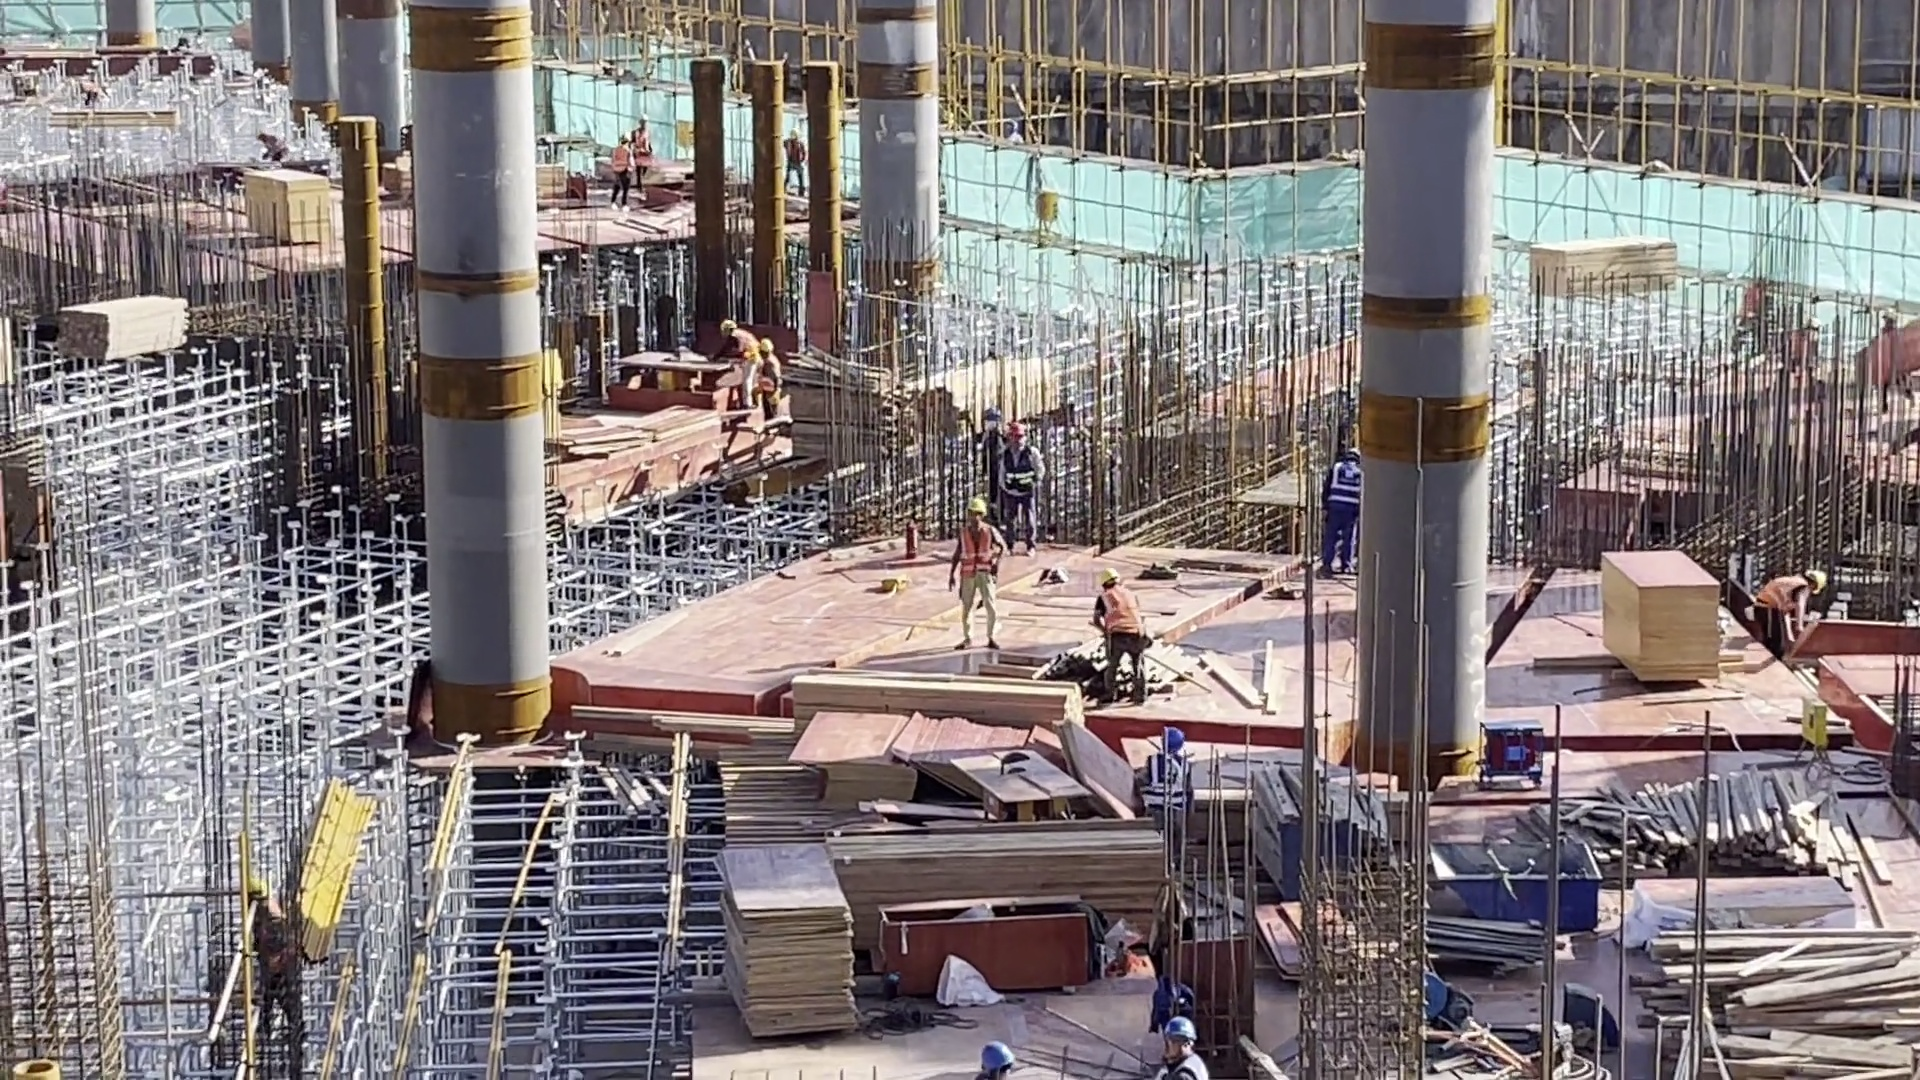helmet: (1157, 727, 1200, 767), (1161, 1006, 1196, 1044), (977, 1037, 1016, 1064), (1797, 563, 1829, 594), (714, 312, 736, 341), (756, 336, 780, 359), (964, 496, 984, 521), (1096, 567, 1116, 592), (1344, 446, 1366, 467), (1007, 422, 1026, 443), (784, 126, 801, 142), (981, 409, 996, 426), (635, 111, 650, 125), (617, 135, 630, 148)
person: (1090, 574, 1153, 705), (956, 496, 1003, 652), (1134, 725, 1196, 841), (1753, 566, 1823, 649), (1317, 440, 1357, 578), (999, 421, 1039, 556), (1147, 1016, 1208, 1080), (968, 407, 1007, 497), (714, 323, 760, 382), (608, 131, 633, 209), (753, 339, 783, 400), (629, 117, 657, 179), (779, 132, 804, 193)
vest: (964, 523, 1004, 583), (1758, 572, 1800, 617), (1100, 594, 1139, 636), (1007, 448, 1039, 495), (1328, 465, 1359, 507), (633, 129, 654, 165), (612, 149, 628, 176)
